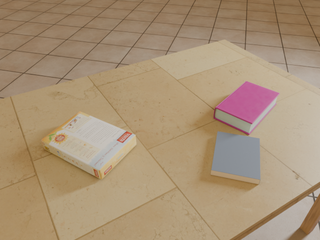book: (214, 81, 280, 135), (211, 132, 260, 184)
box: (41, 112, 136, 179)
